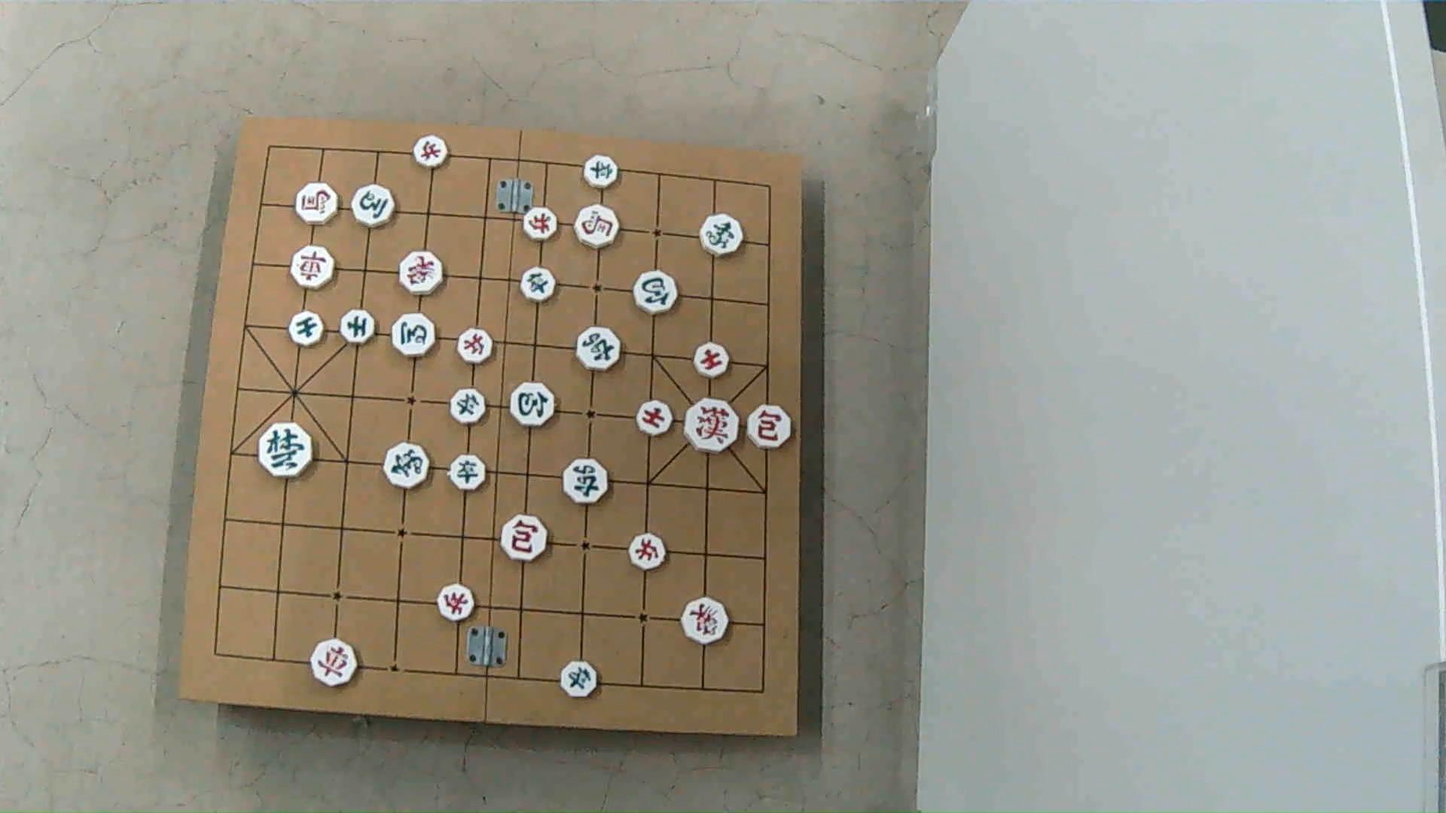cha_green: (577, 327, 622, 371), (564, 458, 609, 502)
cha_red: (310, 640, 356, 687), (291, 246, 334, 289)
jol_green: (561, 662, 598, 699), (451, 390, 488, 425), (450, 455, 487, 490), (583, 156, 618, 190), (523, 266, 557, 300)
jol_red: (436, 583, 473, 621), (629, 533, 666, 568), (459, 327, 494, 363), (526, 206, 560, 240), (410, 134, 445, 167)
ma_green: (392, 314, 435, 357), (352, 185, 392, 227)
ma_red: (575, 205, 618, 248), (297, 184, 339, 224)
po_green: (513, 383, 558, 426), (635, 271, 678, 314)
po_red: (499, 516, 546, 562), (749, 407, 795, 450)
sa_green: (339, 309, 376, 343), (290, 311, 325, 346)
sa_red: (636, 402, 673, 437), (694, 343, 730, 377)
sang_green: (383, 443, 429, 489), (702, 214, 744, 256)
sang_red: (680, 596, 729, 644), (399, 251, 443, 294)
wang_green: (259, 424, 313, 480)
wang_red: (685, 397, 741, 452)
